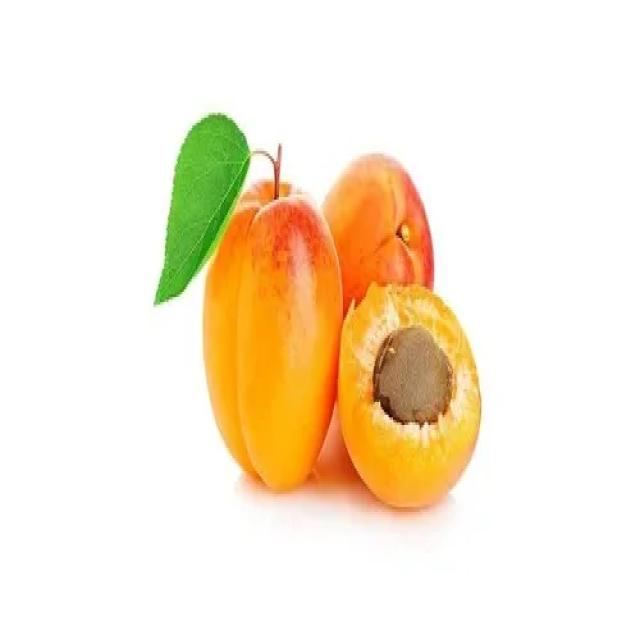Cekirdek: (372, 325, 452, 422)
Kayisi: (338, 284, 480, 504)
Yaprak: (154, 113, 250, 302)
